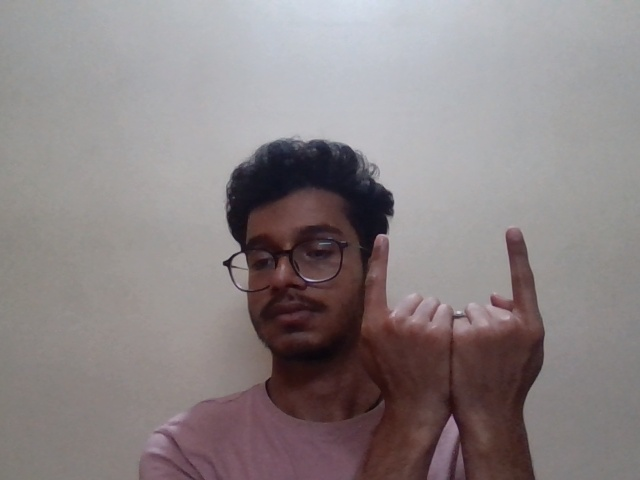when: (342, 219, 559, 389)
